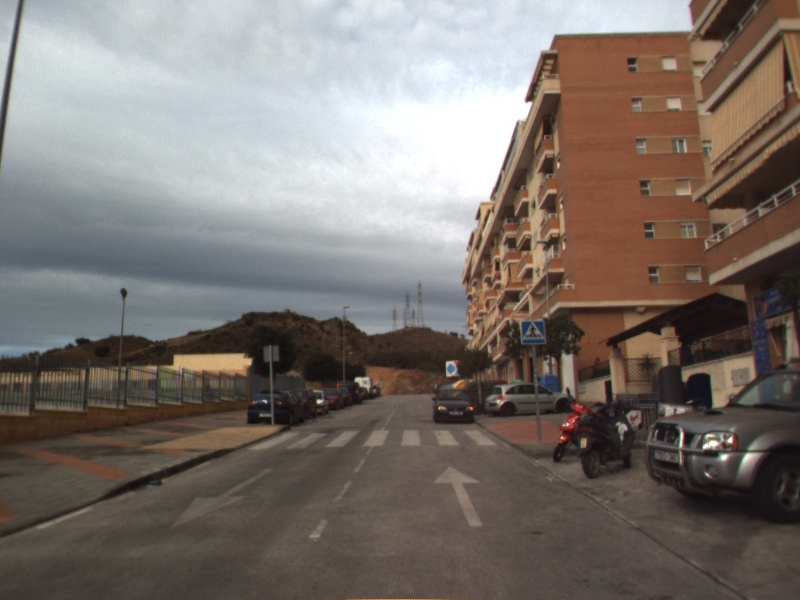STRAIGHT: (431, 464, 485, 528)
